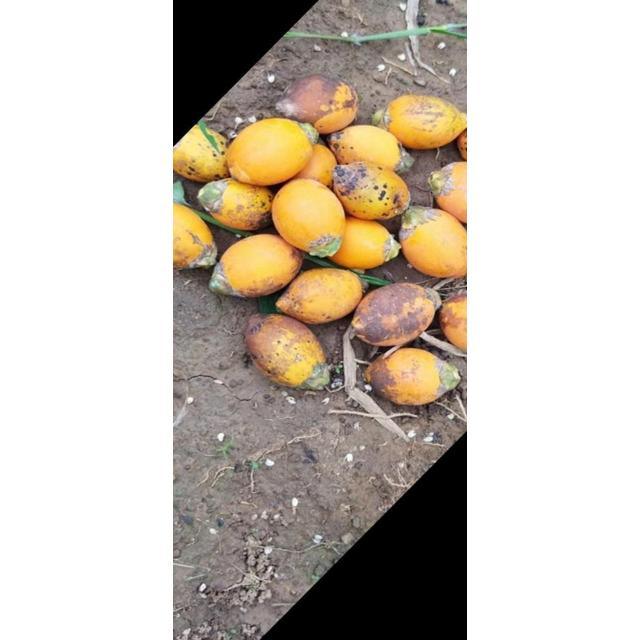good: (215, 118, 467, 368)
